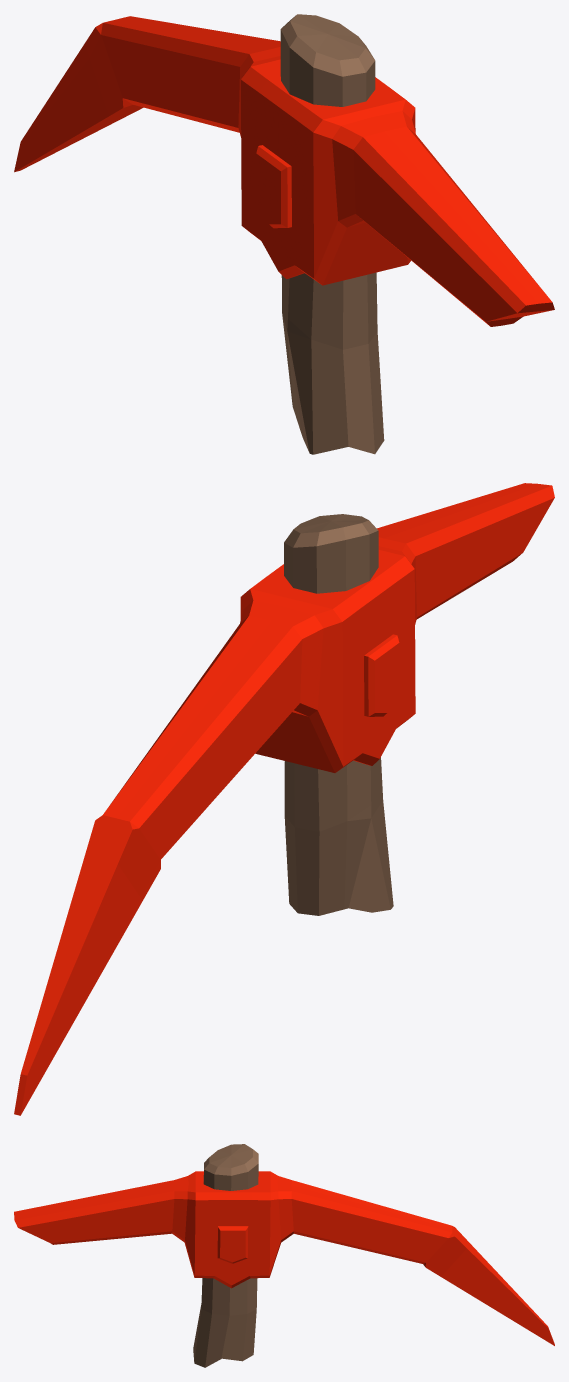
File: Pickaxe_01_Destroyed_Red.fbx
3 renders of one model, top to bottom at view 1: azimuth 30°, elevation 25°; view 2: azimuth 150°, elevation 25°; view 3: azimuth 270°, elevation 25°, orthographic. The views are drawn at different scales.
Visible parts, largest first — view 1: Pickaxe_01_Destroyed_Red; view 2: Pickaxe_01_Destroyed_Red; view 3: Pickaxe_01_Destroyed_Red.
Part boxes in pixels (x1=…): Pickaxe_01_Destroyed_Red: x1=14, y1=14, x2=554, y2=454; Pickaxe_01_Destroyed_Red: x1=14, y1=483, x2=554, y2=1115; Pickaxe_01_Destroyed_Red: x1=14, y1=1144, x2=554, y2=1367.
Size of the model in its own units: 13.04 by 42.51 by 99.06.
